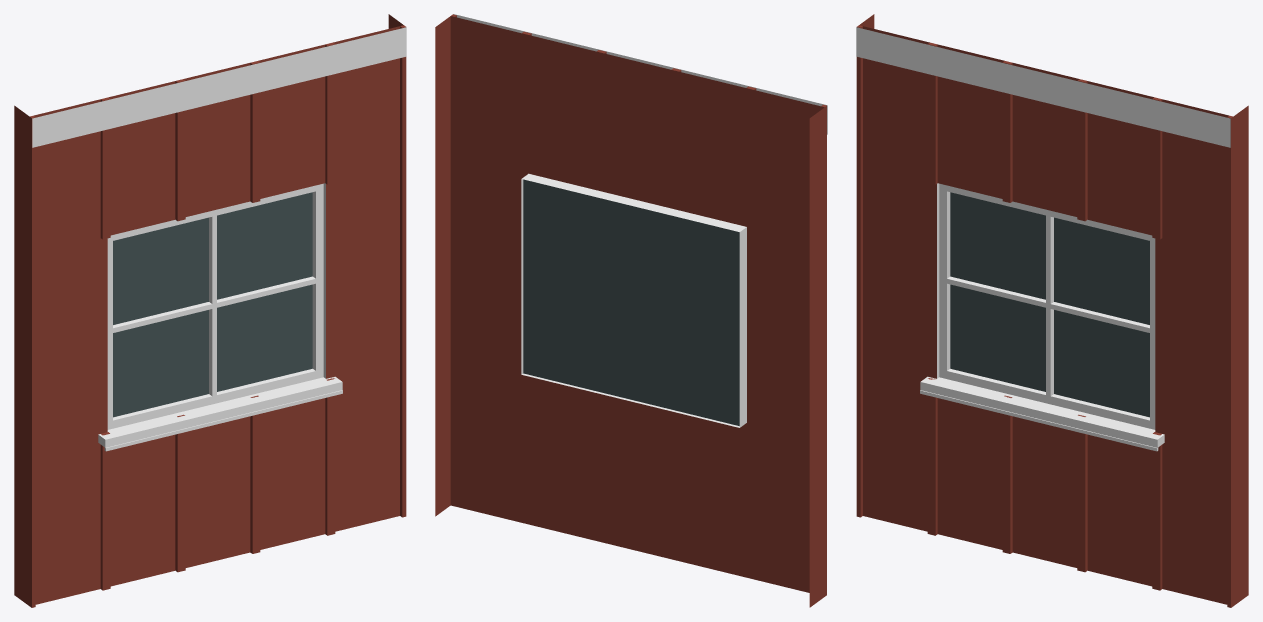
The model's file is top-stair_close.fbx.
3 views of the same model, side by side, from view 1: azimuth 30°, elevation 25°; view 2: azimuth 150°, elevation 25°; view 3: azimuth 330°, elevation 25° (orthographic).
Visible parts, largest first — view 1: a2015/600/top-stair_close; view 2: a2015/600/top-stair_close; view 3: a2015/600/top-stair_close.
Part boxes in pixels (x1,y1,x2,y2): a2015/600/top-stair_close: (14, 14, 406, 607); a2015/600/top-stair_close: (435, 14, 827, 607); a2015/600/top-stair_close: (856, 14, 1248, 607).
Size of the model in its own units: 2.4 by 3 by 0.255.
